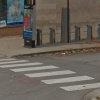Crosswalk: (8, 51, 95, 96)
